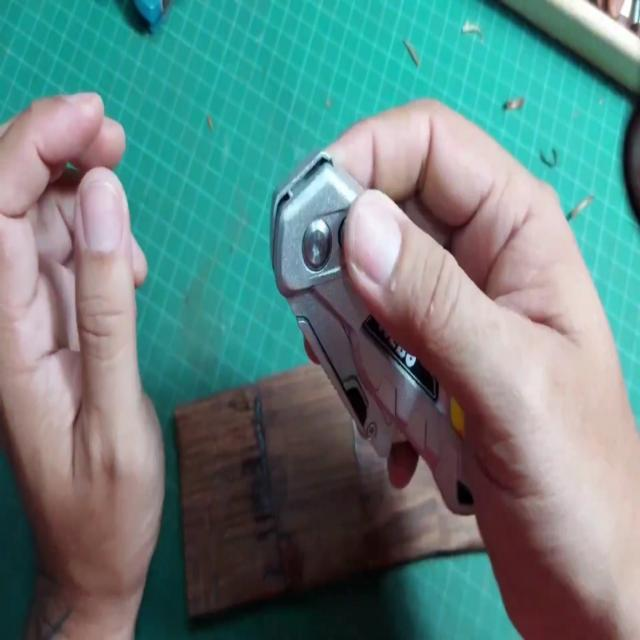cutter: (256, 54, 640, 588)
